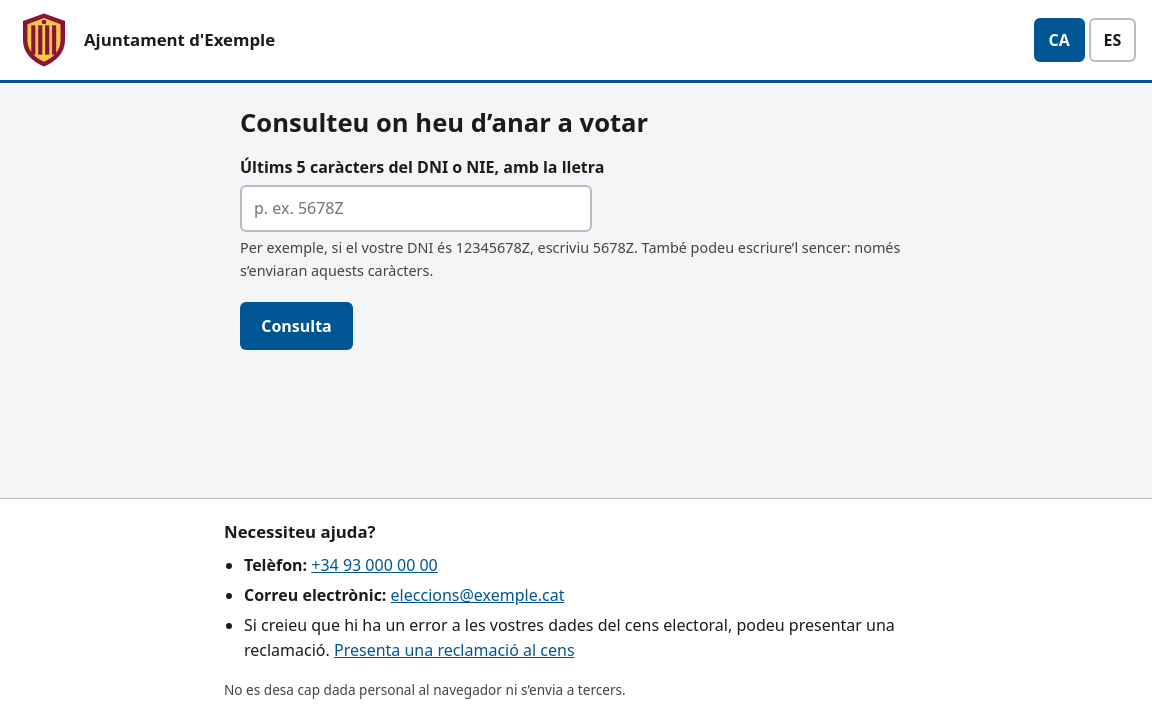
it: flux complet de consulta › document → demana [day sn1] → només es veu el dia → resultat
The width and height of the screenshot is (1152, 705).
Type "12345678Z" into the field labelled "Últims 5 caràcters del DNI o NIE, amb la lletra" at (416, 209), box [240,185,592,232]
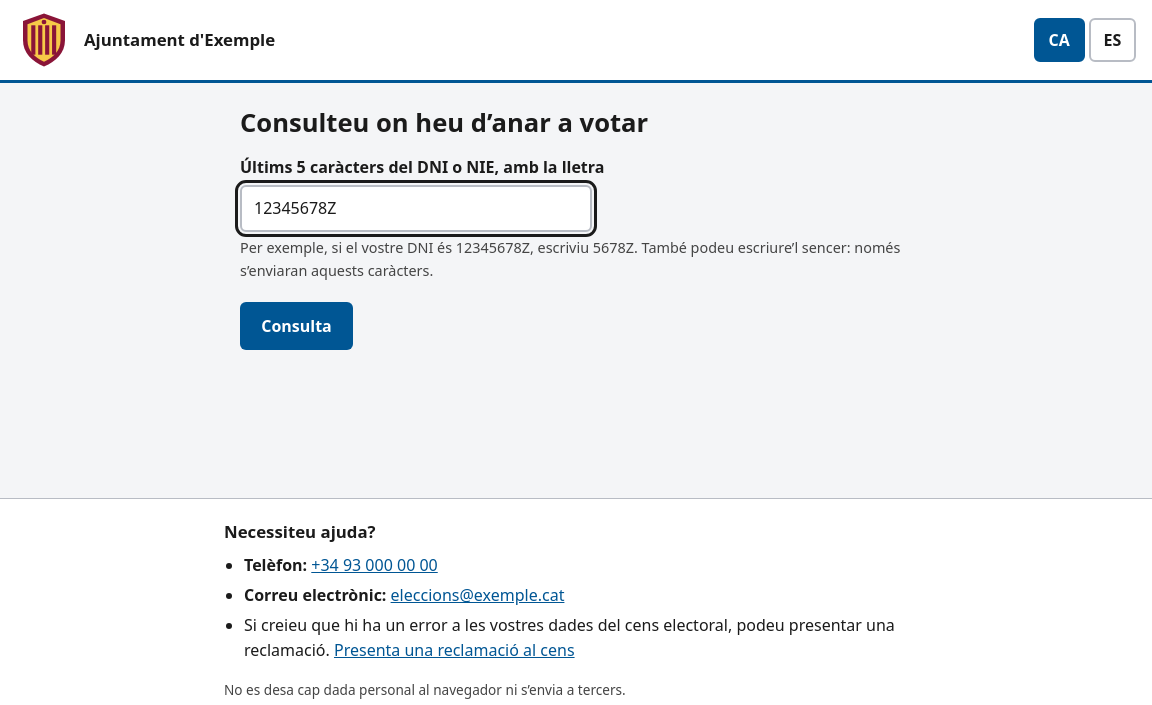
Click the button "Consulta" at (296, 326), box [240,302,353,350]
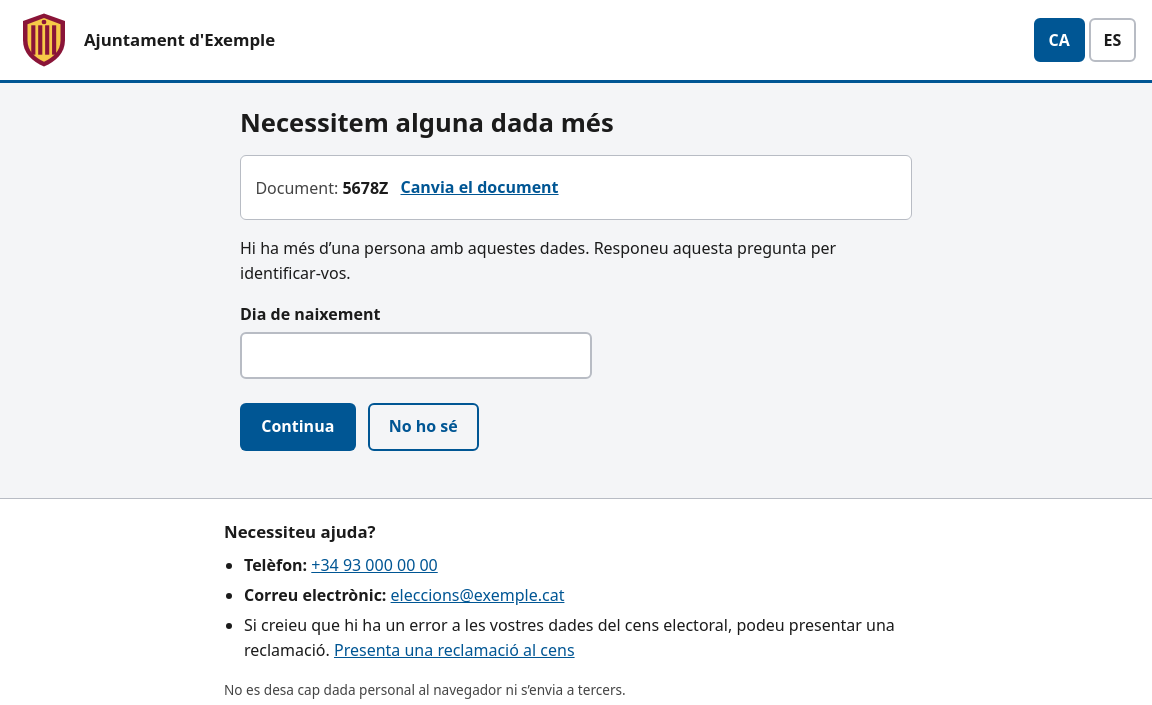
Type "5" into the field labelled "Dia de naixement" at (416, 355), box [240,332,592,379]
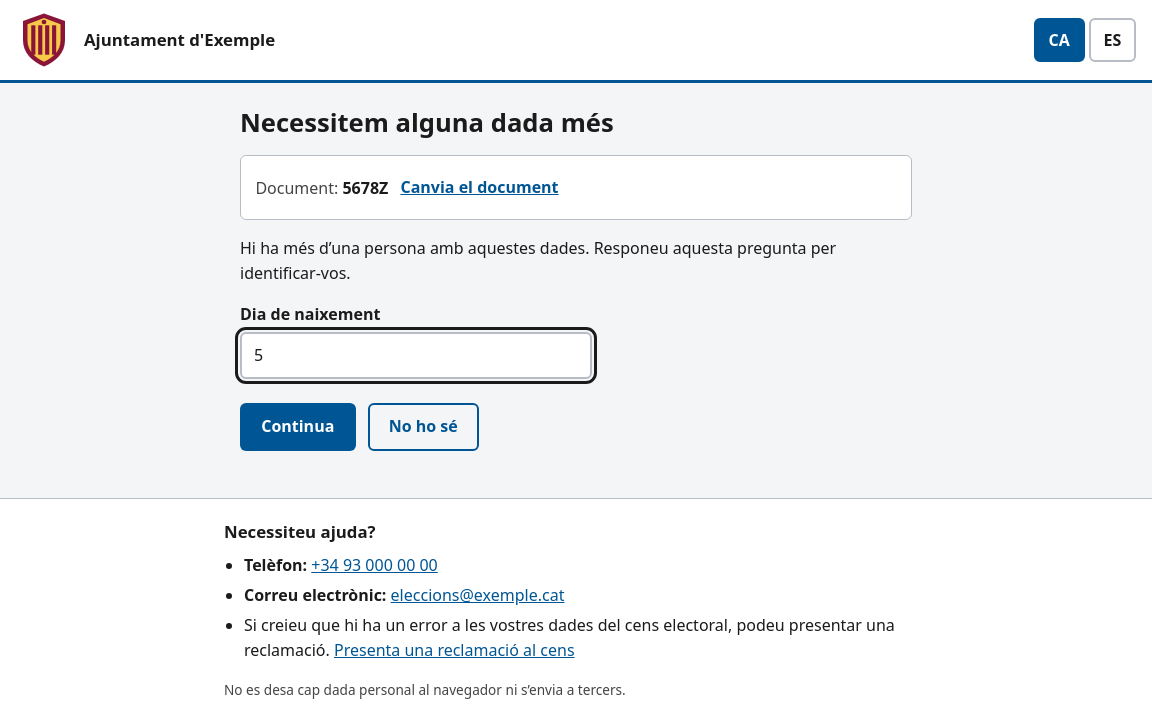
Click the button "Continua" at (298, 426), box [240,402,356,450]
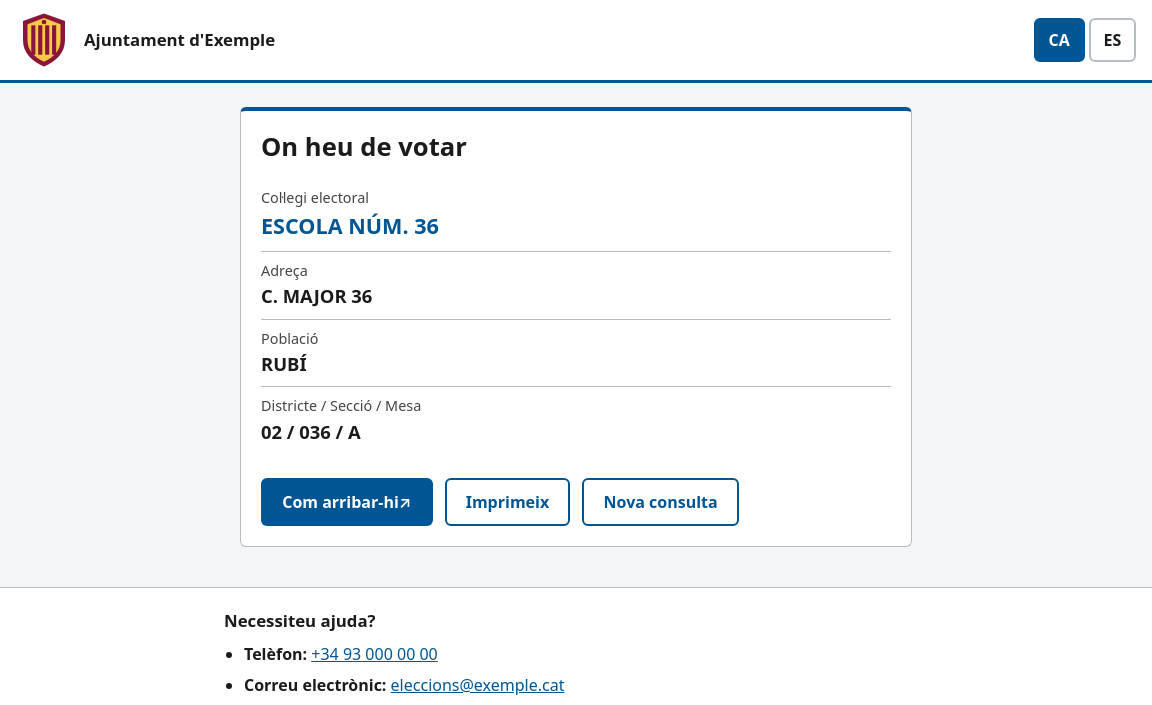
Expected: the text "ESCOLA NÚM. 36" is shown, [261,211,439,240]
Expected: the text "C. MAJOR 36" is shown, [261,283,372,308]
Expected: the text "02 / 036 / A" is shown, [261,419,361,444]
